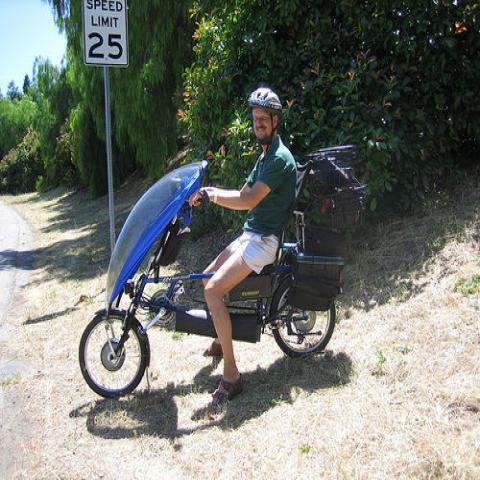motorcycle: (78, 160, 347, 398)
